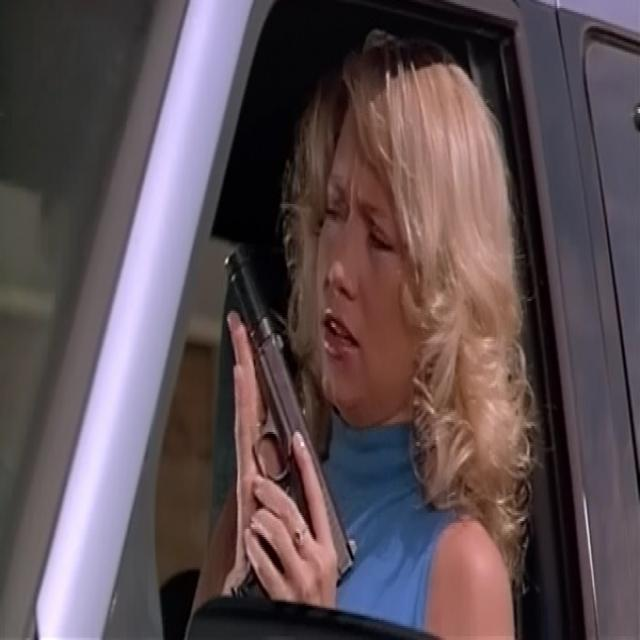weapons: (205, 220, 357, 620)
